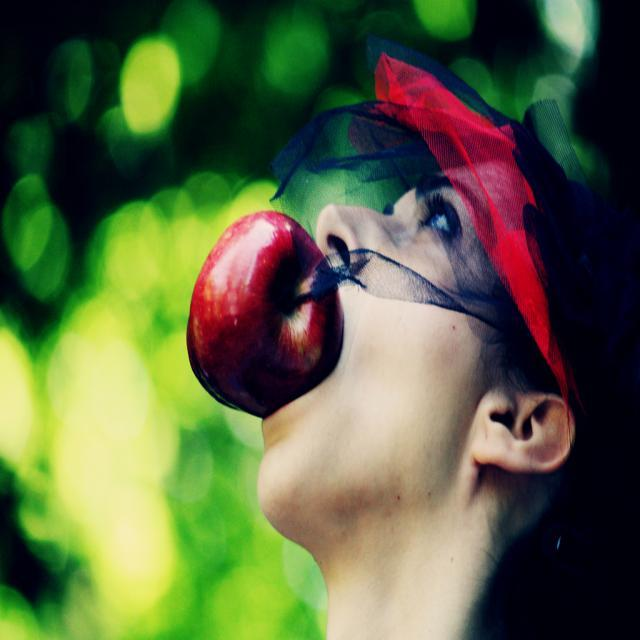Apple pie: (181, 203, 350, 423)
